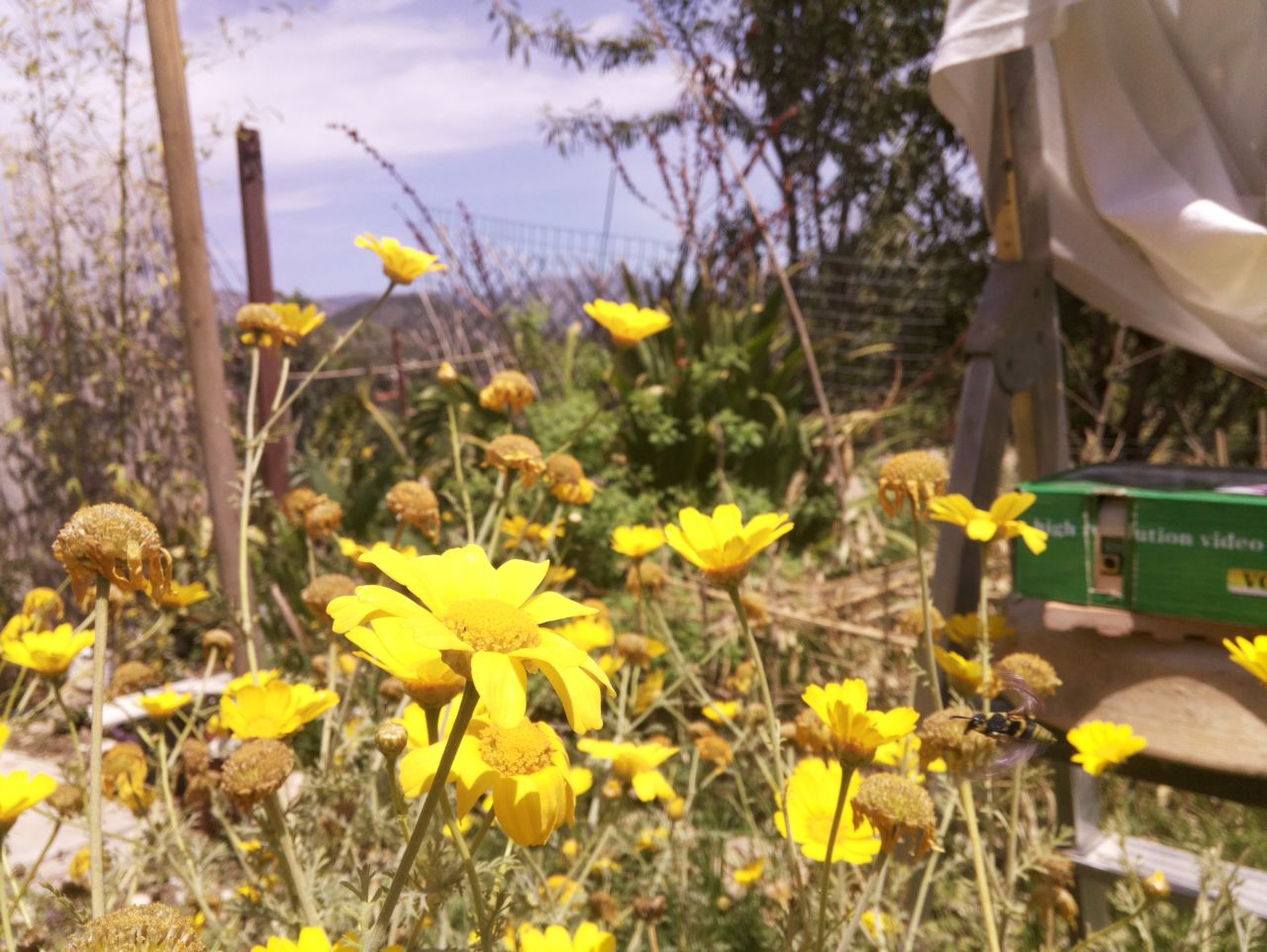Wasp: (941, 672, 1072, 784)
